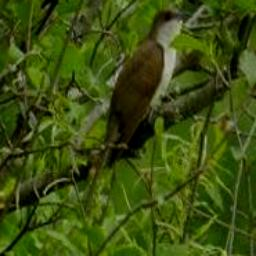Cuckoo: (83, 10, 188, 216)
